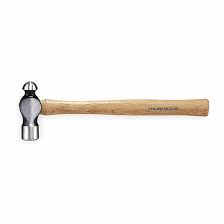hammer: (18, 81, 210, 141)
